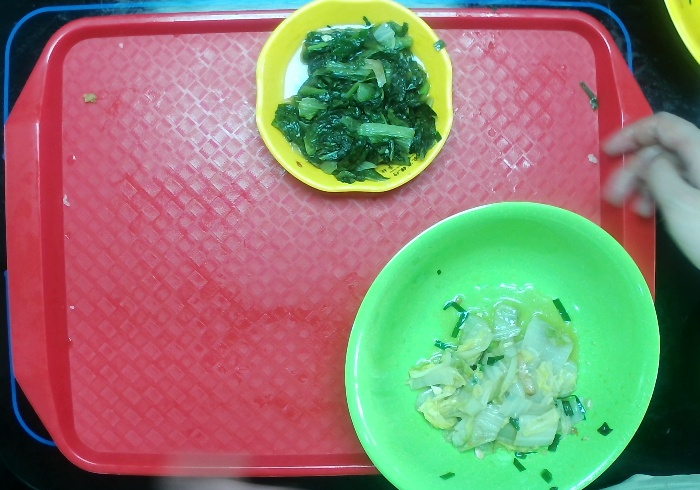YKMZ-Huang_Se_Ao_Bian_Wan: (251, 1, 461, 197)
YKMZ-Lv_Se_Tang_Wan: (337, 194, 669, 490)
